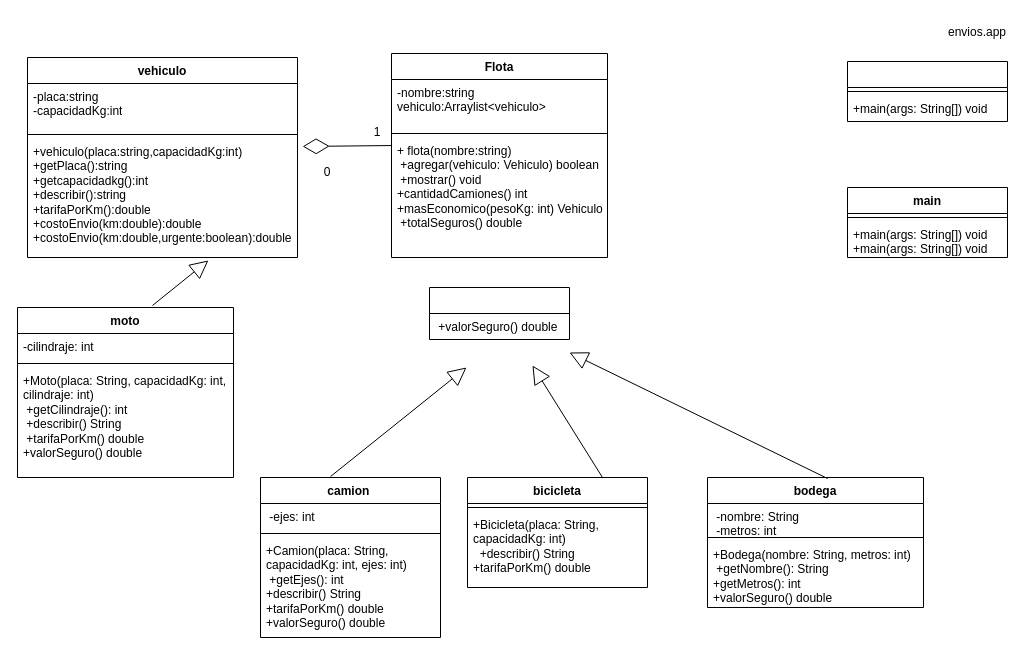
This 1025x657 diagram has some shape labels left out. Each missing label, with the box of its shape:
<<interface>> Asegurable: (428, 286, 570, 340)
pruebaHerencia: (846, 60, 1008, 122)
